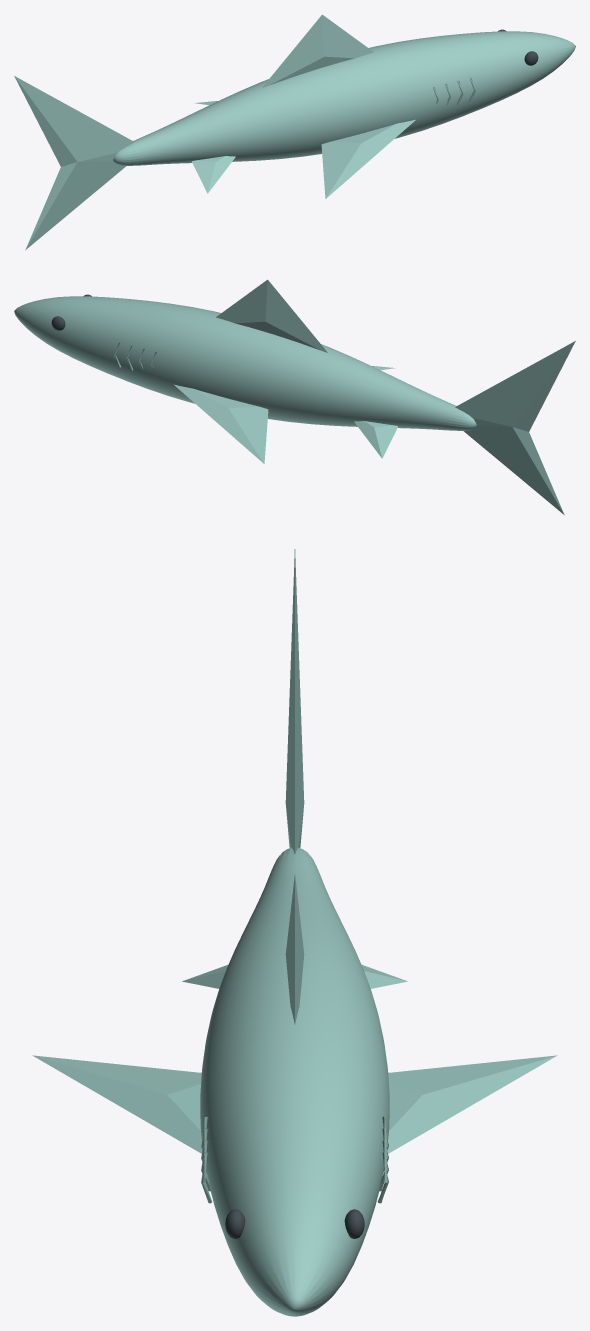
3 renders of one model, top to bottom at view 1: azimuth 30°, elevation 25°; view 2: azimuth 150°, elevation 25°; view 3: azimuth 270°, elevation 25°, orthographic. The views are drawn at different scales.
Parts seen in each view (by area): view 1: Body, Tail, Dorsal, Pectoral, Pelvic; view 2: Body, Tail, Dorsal, Pectoral.001, Pelvic.001; view 3: Body, Pectoral.001, Pectoral, Tail, Dorsal.
Part boxes in pixels (<box>): Body: <box>113,31,575,165</box>; Tail: <box>14,76,134,249</box>; Dorsal: <box>262,14,373,87</box>; Pectoral: <box>321,119,415,198</box>; Pelvic: <box>192,156,235,193</box>; Body: <box>14,296,476,430</box>; Tail: <box>455,341,575,514</box>; Dorsal: <box>216,279,327,352</box>; Pectoral.001: <box>174,384,268,463</box>; Pelvic.001: <box>354,421,397,458</box>; Body: <box>200,847,389,1316</box>; Pectoral.001: <box>387,1055,557,1153</box>; Pectoral: <box>32,1055,202,1153</box>; Tail: <box>285,549,304,854</box>; Dorsal: <box>285,875,304,1024</box>.
Bounding box in the file's own units: 252 × 76 × 102.
